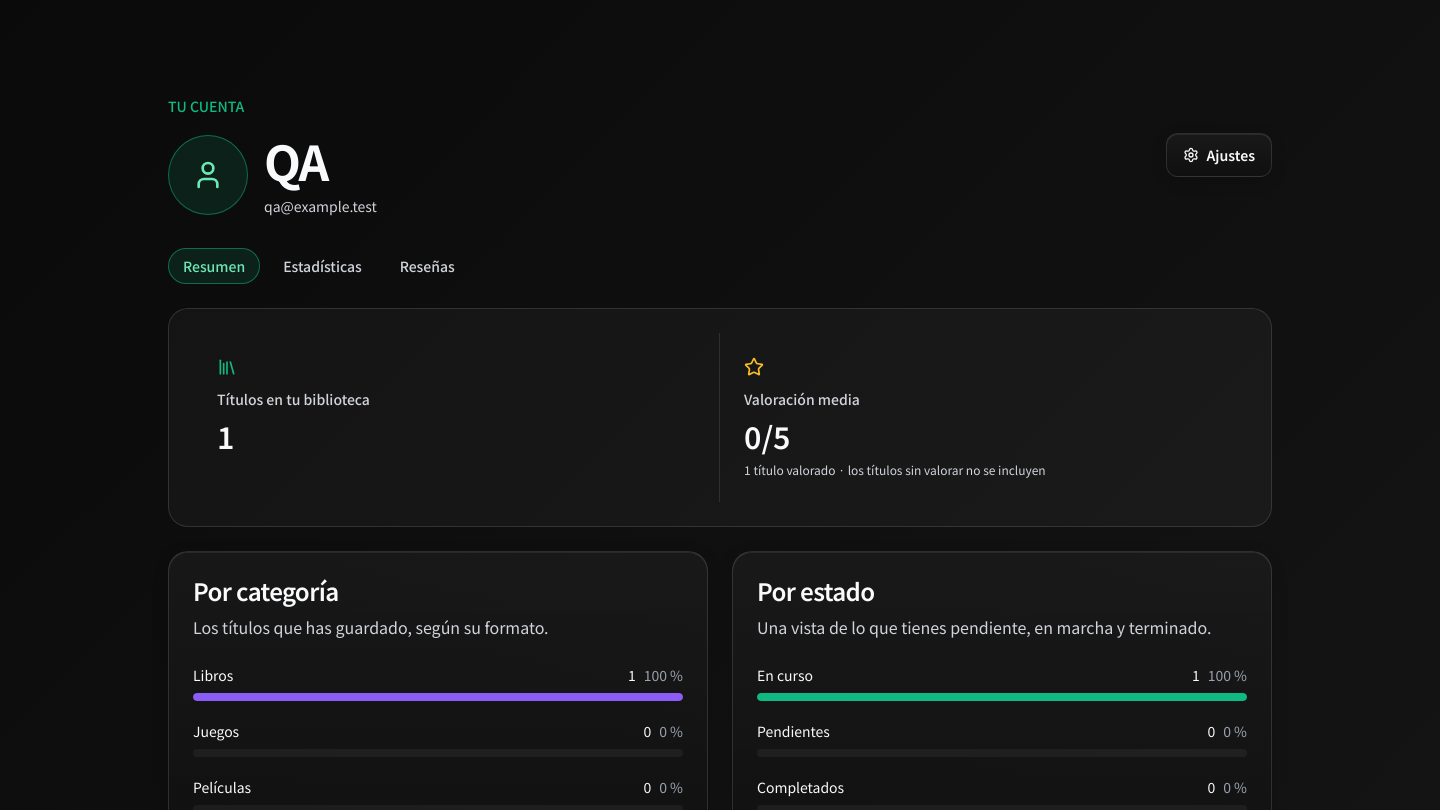
it: preserves zero-rated reviews and opens their editing form
Expected: the text "0/5" is shown, 744,414 -> 790,458
What coordinates should you click on to do the following:
click the button "Reseñas"
I would click on:
 (427, 266)
Its box is 385,248 -> 470,284.
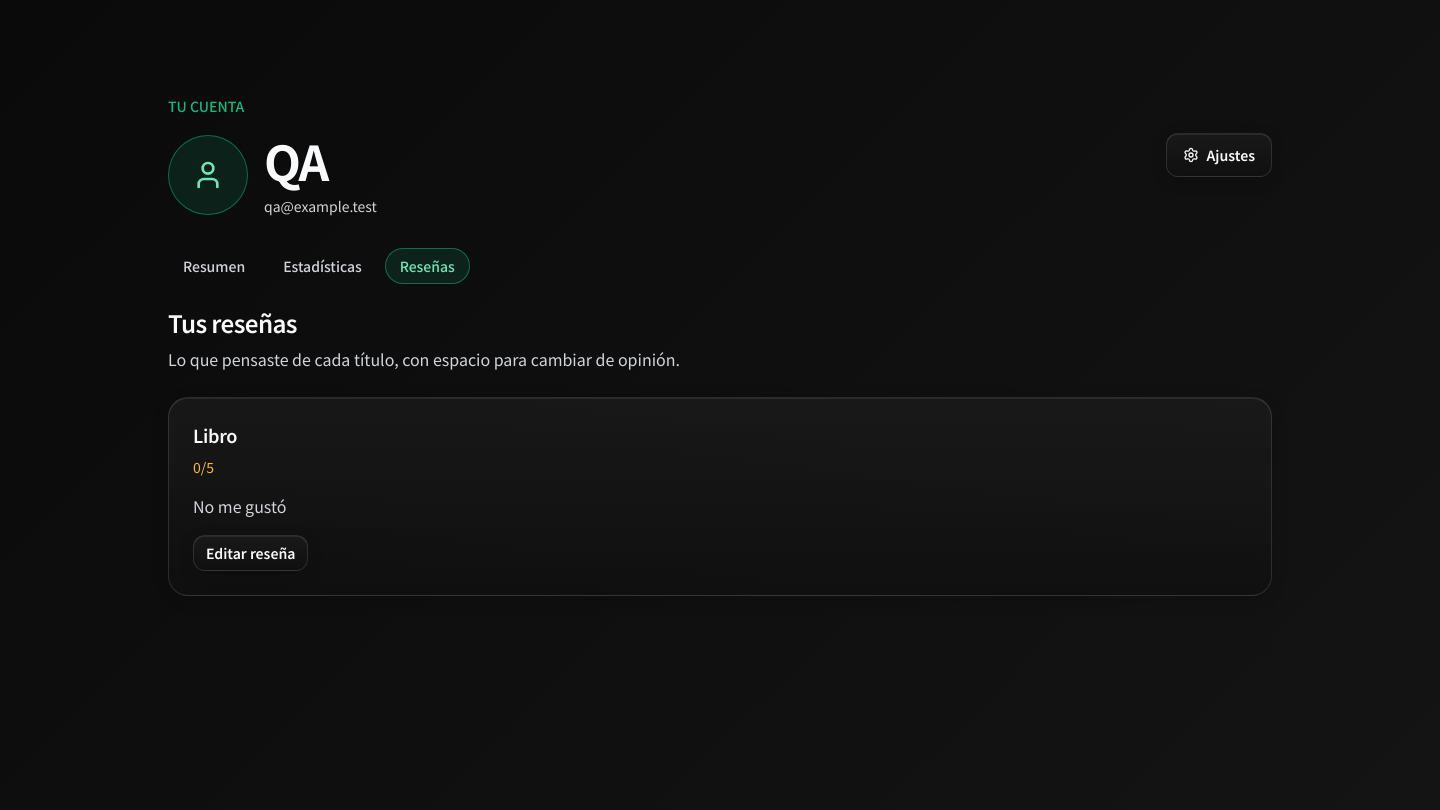
Expected: the text "0/5" is shown, 193,457 -> 214,477
What coordinates should you click on to do the following:
click the button with aria-label "Editar reseña de Libro"
I would click on:
 (251, 553)
Its box is 193,535 -> 308,571.
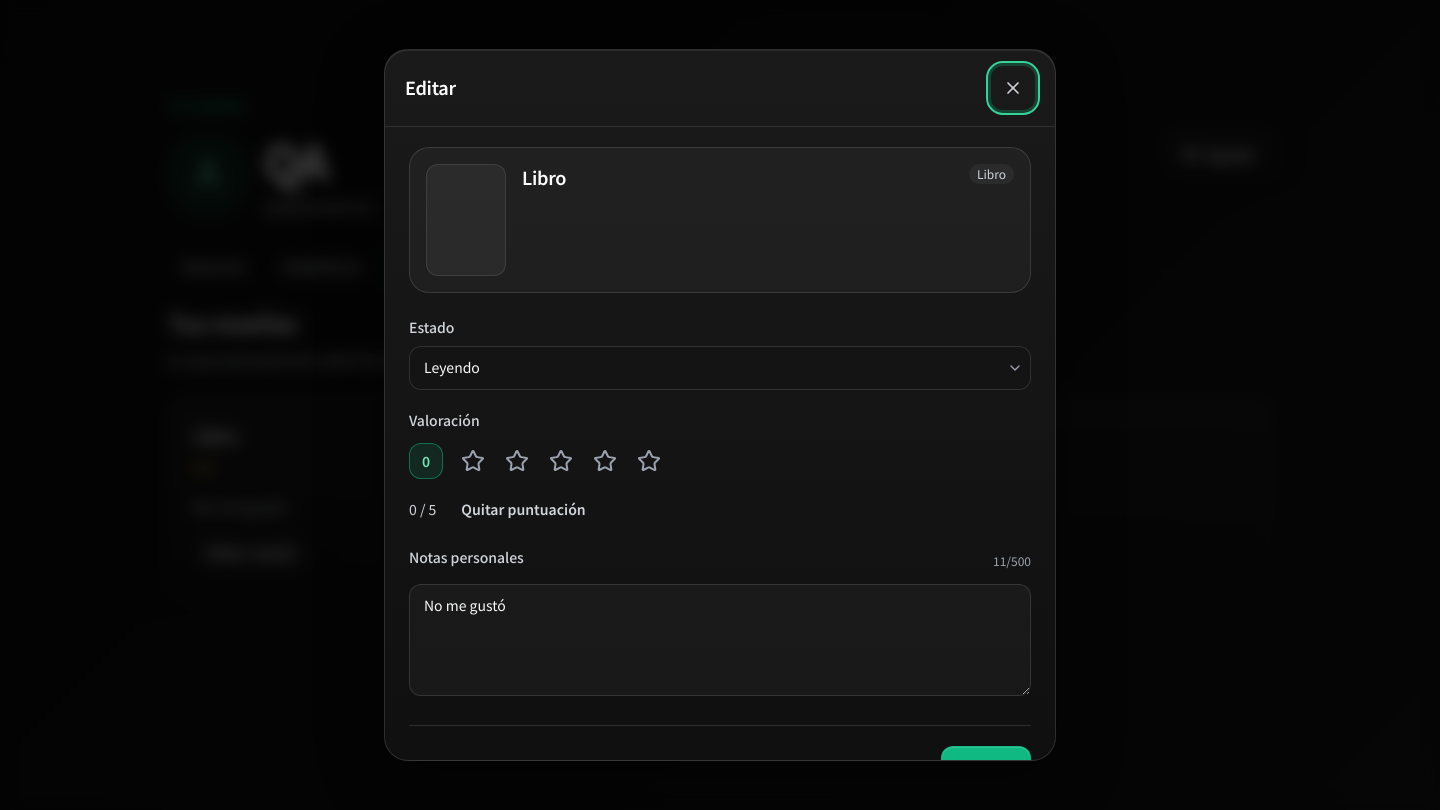
Expected: the dialog shows "Libro", 522,164 -> 566,190
